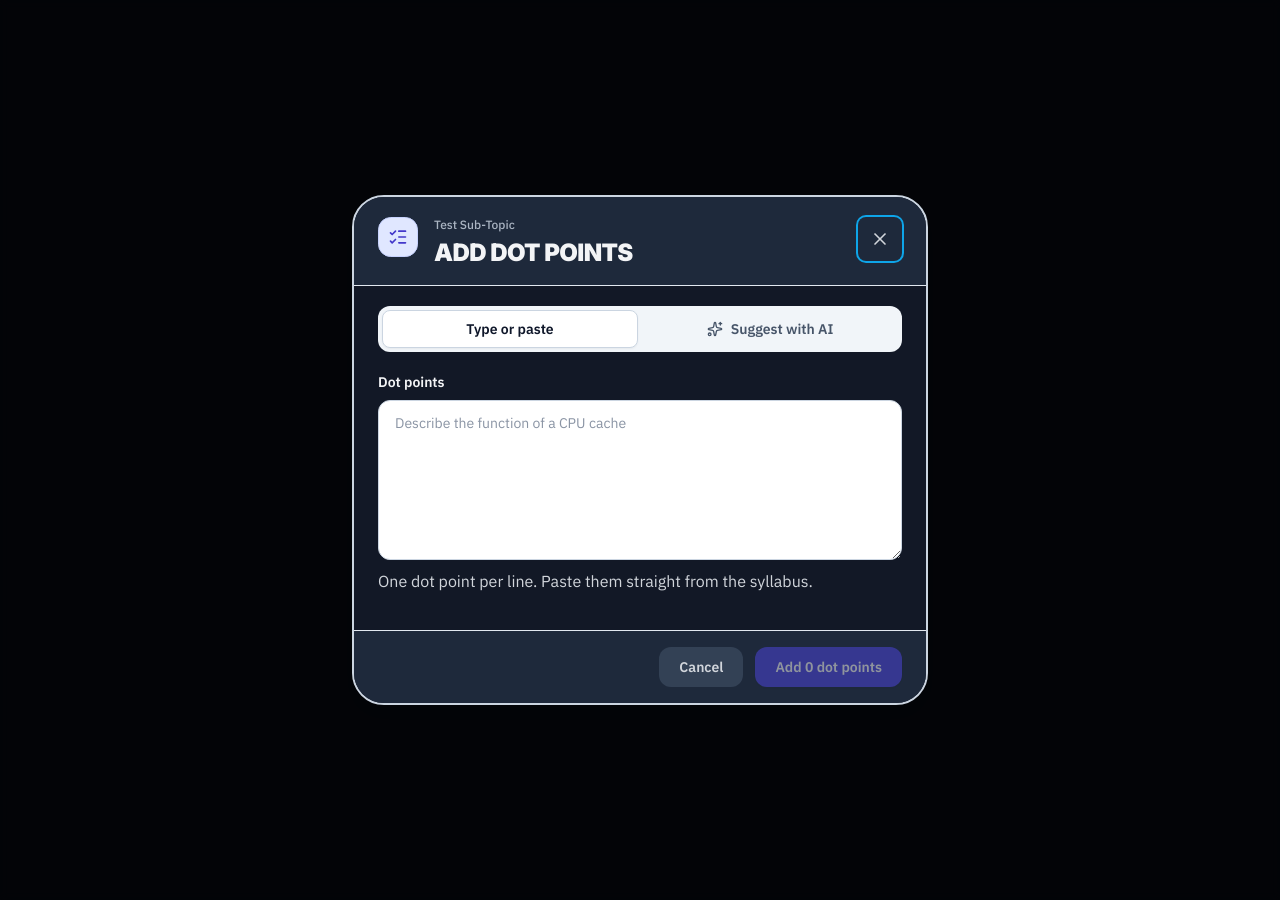
Test case: AI modals render failures through the shared AiErrorNotice › DotPointGeneratorModal surfaces a generation failure and clears it on Dismiss
The width and height of the screenshot is (1280, 900).
The modal opens on Type or paste, so the AI pass is one tab across.
Click the tab "Suggest with AI" at (770, 329), box [642,310,898,348]
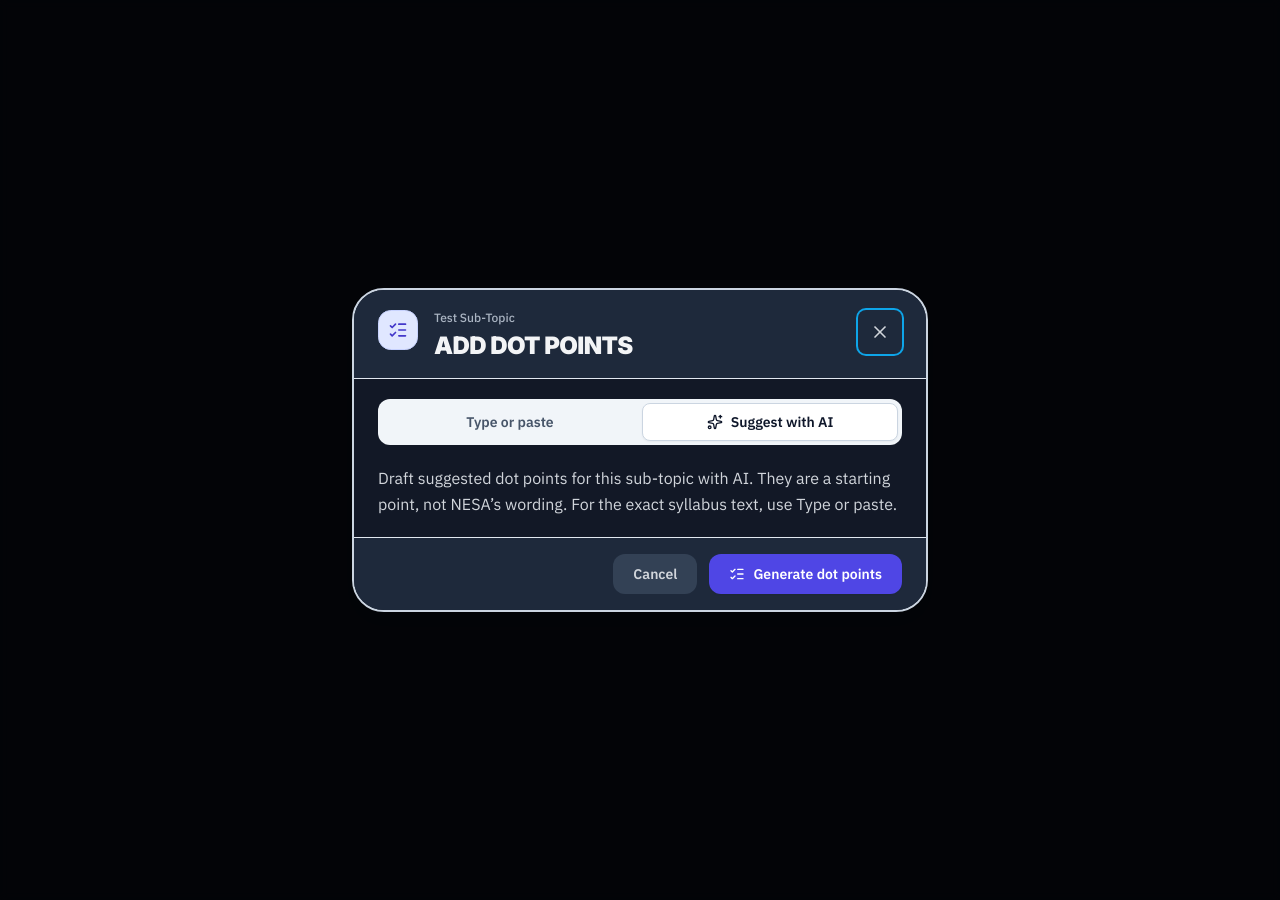
Click the button "Generate dot points" at (806, 574), box [709,554,902,594]
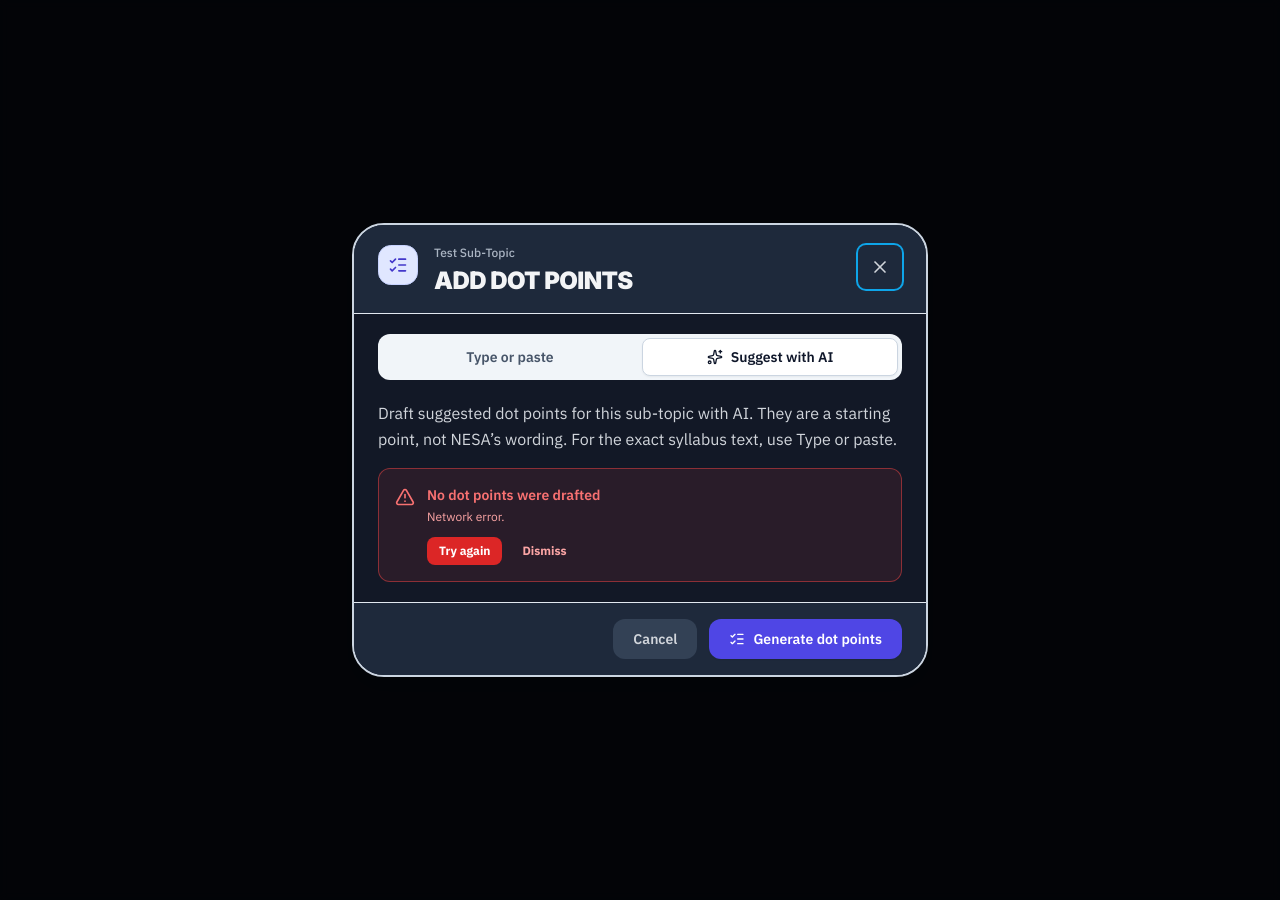
Expected: the message shows "No dot points were drafted", [427,486,600,504]
Expected: the message shows "Network error.", [427,510,504,524]
Dismiss removes the notice.
Click the button "Dismiss" at (544, 552), box [510,538,578,566]
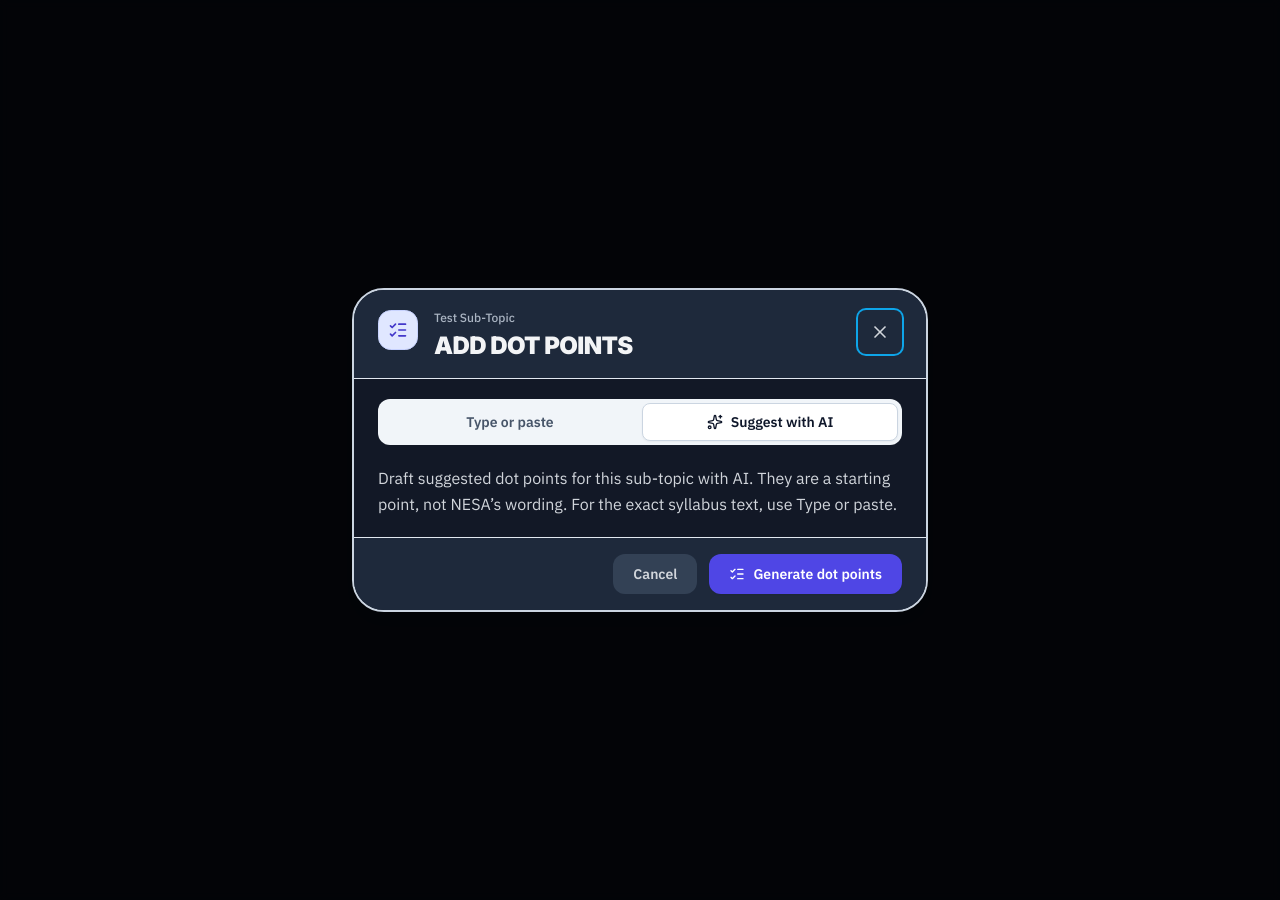
Expected: the message "No dot points were drafted Network error. Try again Dismiss" is gone
